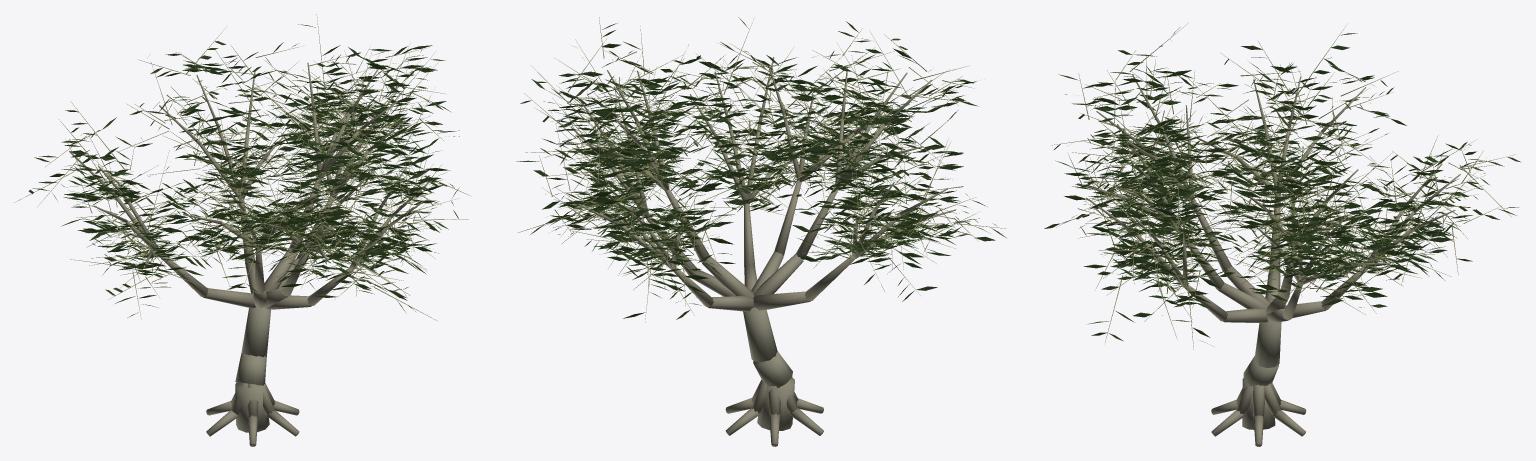
Rendered from mango_tree.glb.
The picture shows the model from 3 angles, left to right: view 1: azimuth 30°, elevation 25°; view 2: azimuth 150°, elevation 25°; view 3: azimuth 270°, elevation 25°; orthographic projection. The views are drawn at different scales.
Visible parts, largest first — view 1: mango_tree; view 2: mango_tree; view 3: mango_tree.
Part boxes in pixels (box(x1,y1,x2,y2)): mango_tree: box(14, 14, 470, 446); mango_tree: box(516, 17, 1006, 446); mango_tree: box(1044, 23, 1520, 446).
Bounding box in the file's own units: 9.07 × 7.77 × 9.13.
